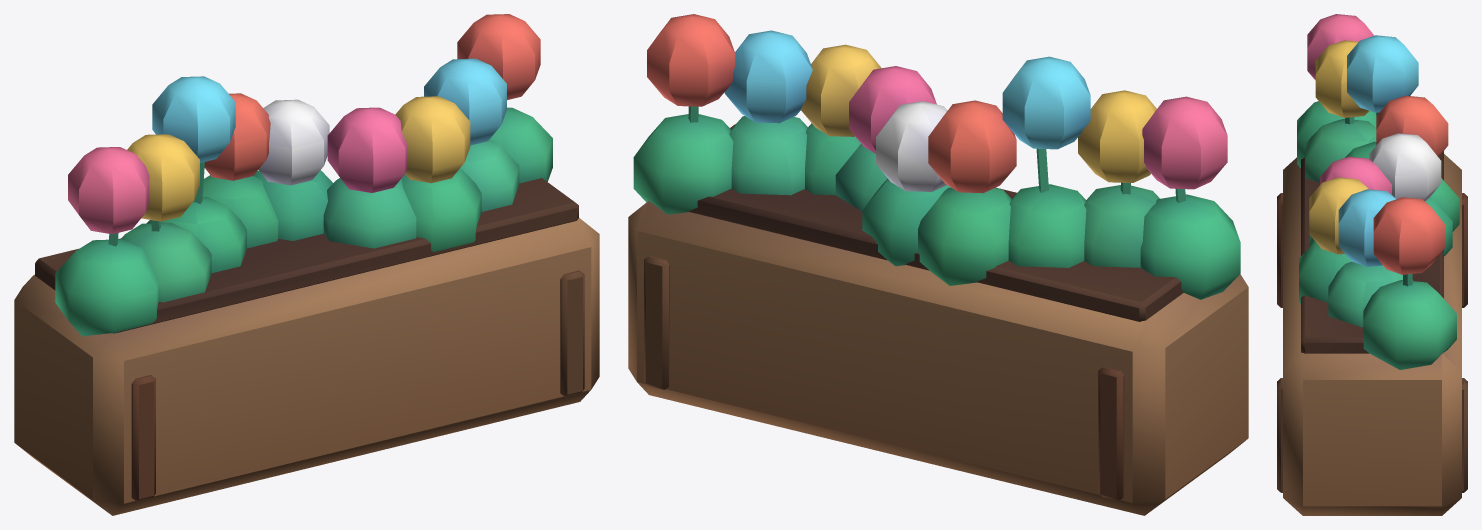
The model's file is common_town_planter.glb.
The picture shows the model from 3 angles, left to right: view 1: azimuth 30°, elevation 25°; view 2: azimuth 150°, elevation 25°; view 3: azimuth 270°, elevation 25°; orthographic projection. The views are drawn at different scales.
Visible parts, largest first — view 1: common_town_planter; view 2: common_town_planter; view 3: common_town_planter.
Boxes of the visible parts, x1,y1,x2,y2 form: common_town_planter: (14, 14, 599, 515); common_town_planter: (628, 14, 1248, 515); common_town_planter: (1277, 14, 1467, 515).
Size of the model in its own units: 1.34 by 0.9169 by 0.48.
